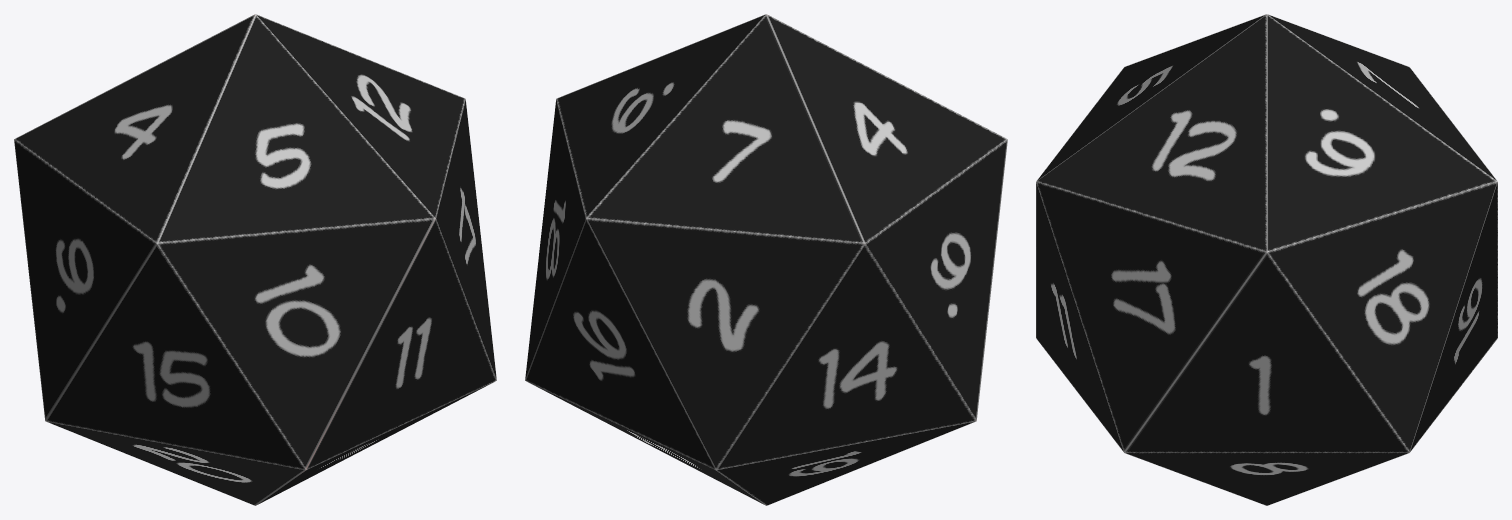
The model's file is Dado20.glb.
The picture shows the model from 3 angles, left to right: view 1: azimuth 30°, elevation 25°; view 2: azimuth 150°, elevation 25°; view 3: azimuth 270°, elevation 25°; orthographic projection.
Visible parts, largest first — view 1: Icosphere; view 2: Icosphere; view 3: Icosphere.
Boxes of the visible parts, x1=… form: Icosphere: x1=14, y1=14, x2=496, y2=505; Icosphere: x1=525, y1=14, x2=1007, y2=505; Icosphere: x1=1036, y1=14, x2=1497, y2=505.
Size of the model in its own units: 1.79 by 2 by 1.7.
Materials: 1 (1 with a texture image).
